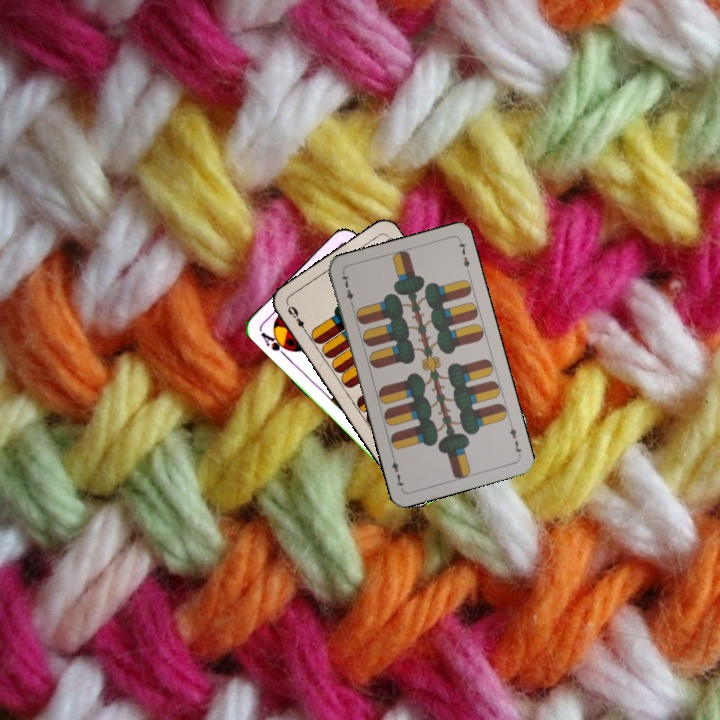E7: (337, 269, 356, 309), (506, 419, 524, 459)
E9: (283, 301, 310, 337)
SA: (256, 327, 294, 359)
